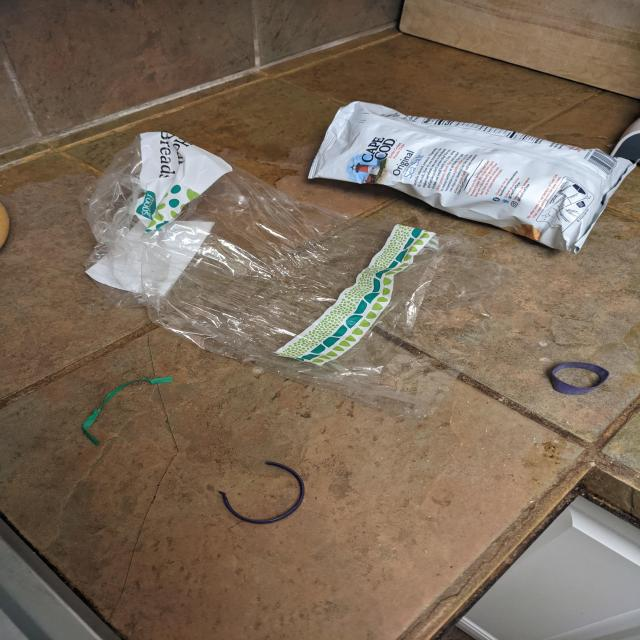litter: (79, 132, 508, 413)
